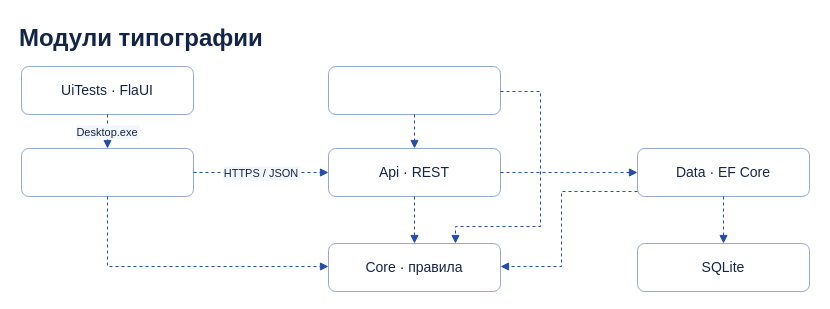
Image size: 830x309. Some labels were removed from this diagram. The centre of each missing label's shape, as x and y in pixels:
"Desktop · WPF" goes at (107,172).
"Tests · xUnit" goes at (414,90).
